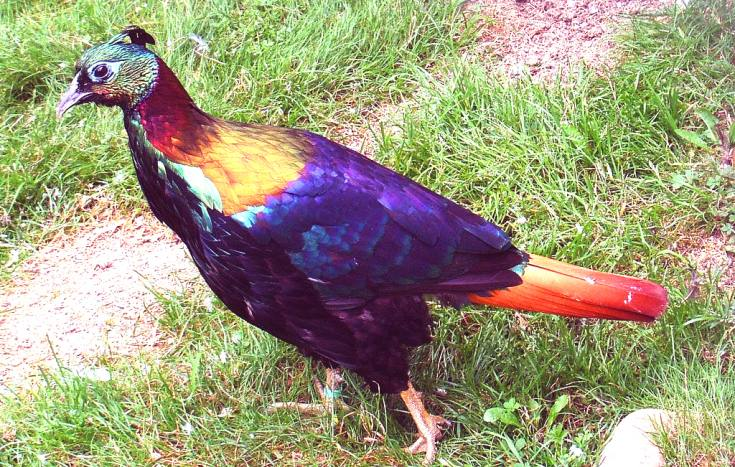bird: (49, 25, 685, 467)
